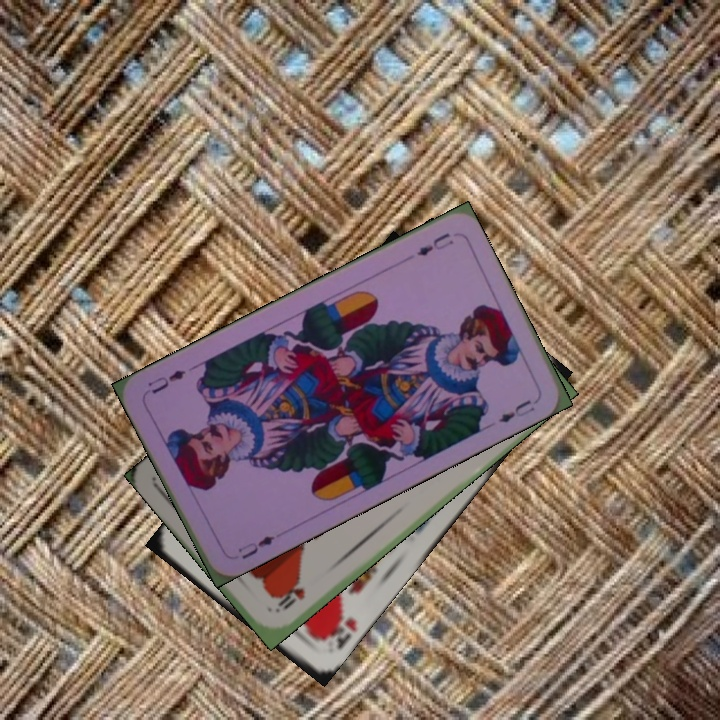EU: (233, 531, 277, 562), (412, 228, 456, 259)
HK: (317, 606, 360, 653)
HO: (270, 583, 308, 616)
